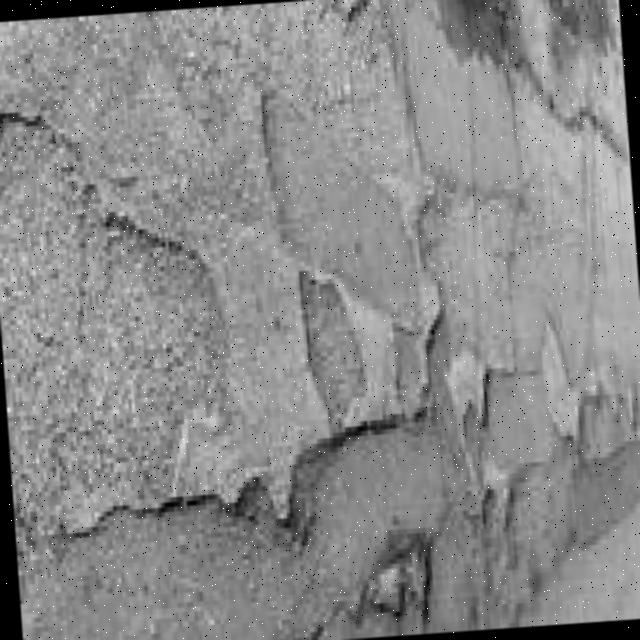road collapse: (35, 26, 640, 640)
